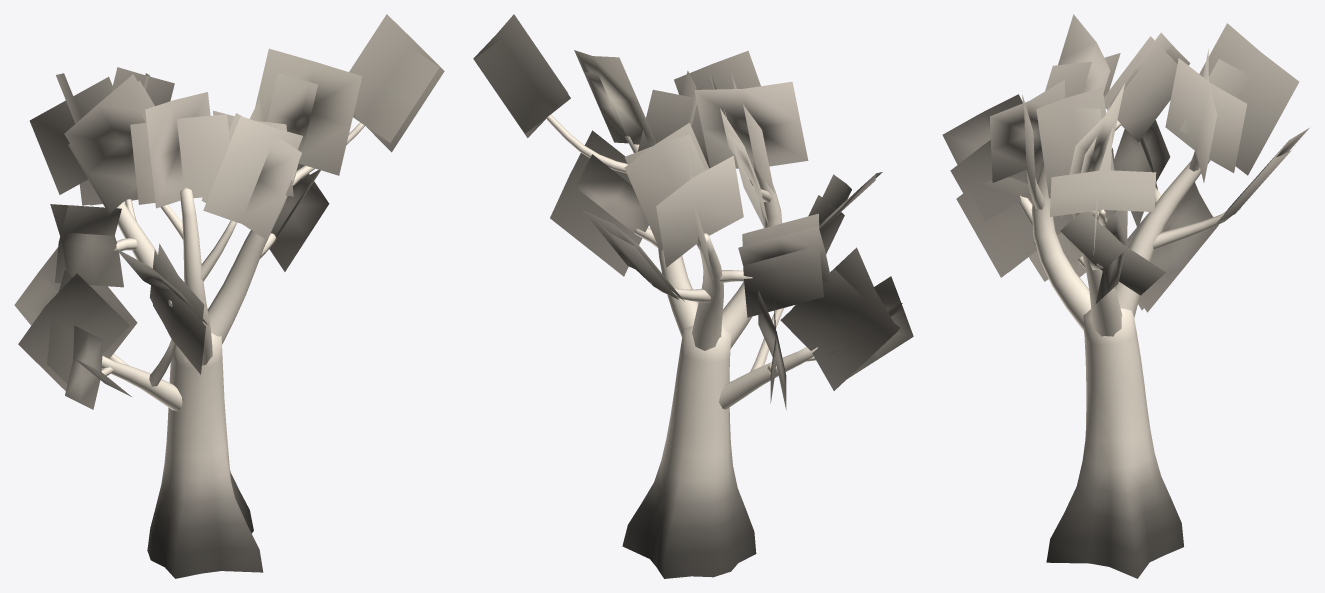
The model's file is SM_VK_Tree_Dead.fbx.
3 views of the same model, side by side, from view 1: azimuth 30°, elevation 25°; view 2: azimuth 150°, elevation 25°; view 3: azimuth 270°, elevation 25° (orthographic). The views are drawn at different scales.
Parts seen in each view (by area): view 1: SM_VK_Tree_Dead.001; view 2: SM_VK_Tree_Dead.001; view 3: SM_VK_Tree_Dead.001.
Part boxes in pixels (bbox=[...]): SM_VK_Tree_Dead.001: bbox=[14, 14, 444, 578]; SM_VK_Tree_Dead.001: bbox=[473, 14, 913, 578]; SM_VK_Tree_Dead.001: bbox=[942, 14, 1309, 578].
Bounding box in the file's own units: 5.54 × 6.18 × 4.
